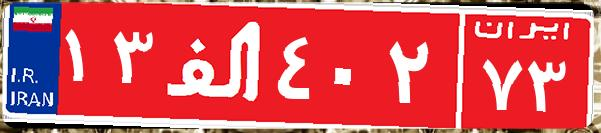0: (330, 28, 385, 110)
1: (57, 26, 110, 107)
2: (385, 28, 445, 110)
3: (110, 28, 158, 105), (525, 38, 570, 115)
4: (273, 28, 330, 110)
7: (475, 38, 525, 113)
الف: (158, 15, 273, 115)
